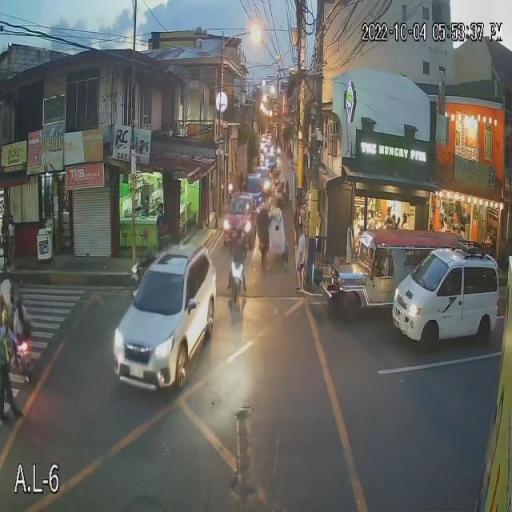helmet: (233, 225, 244, 240), (15, 292, 22, 305)
motorcycle: (11, 332, 35, 381), (230, 260, 245, 298)
rider: (14, 304, 26, 335), (233, 236, 244, 261)
